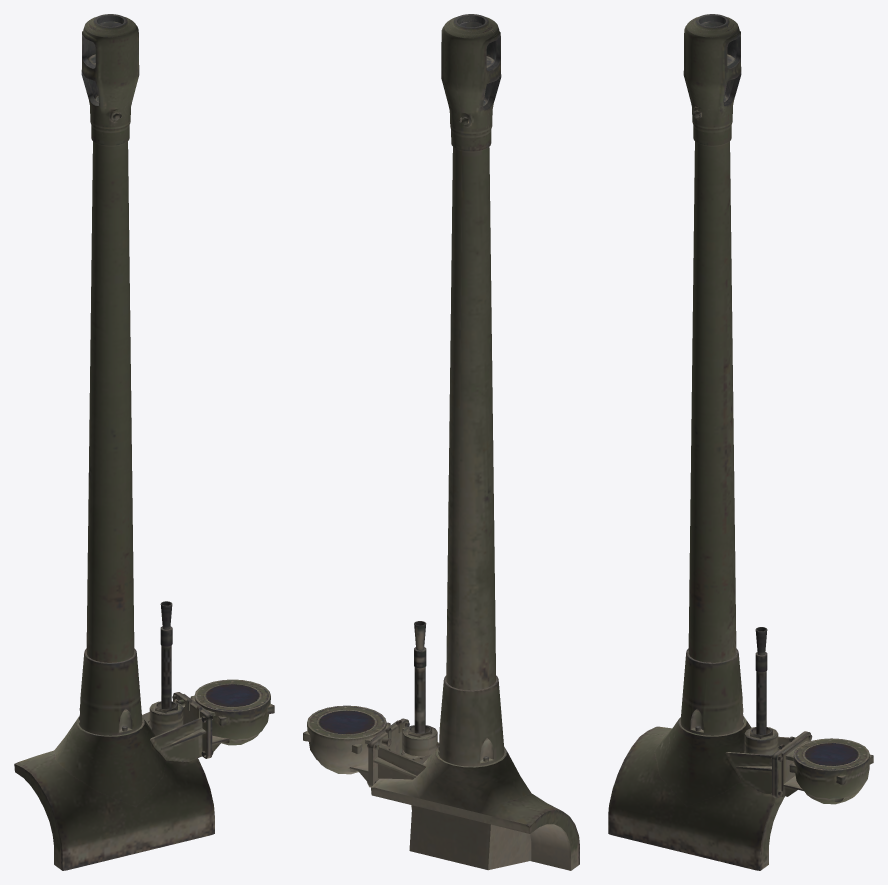
The model's file is Gun_04.glb.
3 views of the same model, side by side, from view 1: azimuth 30°, elevation 25°; view 2: azimuth 150°, elevation 25°; view 3: azimuth 330°, elevation 25° (orthographic). The views are drawn at different scales.
Visible parts, largest first — view 1: set_0_group_0; view 2: set_0_group_0; view 3: set_0_group_0.
Boxes of the visible parts, x1,y1,x2,y2 form: set_0_group_0: (14,14,274,870); set_0_group_0: (303,14,579,870); set_0_group_0: (608,14,873,870).
Size of the model in its own units: 1.3 by 4.38 by 0.4949.
Materials: 1 (1 with a texture image).
